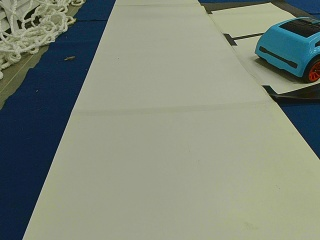car: (254, 15, 318, 82)
